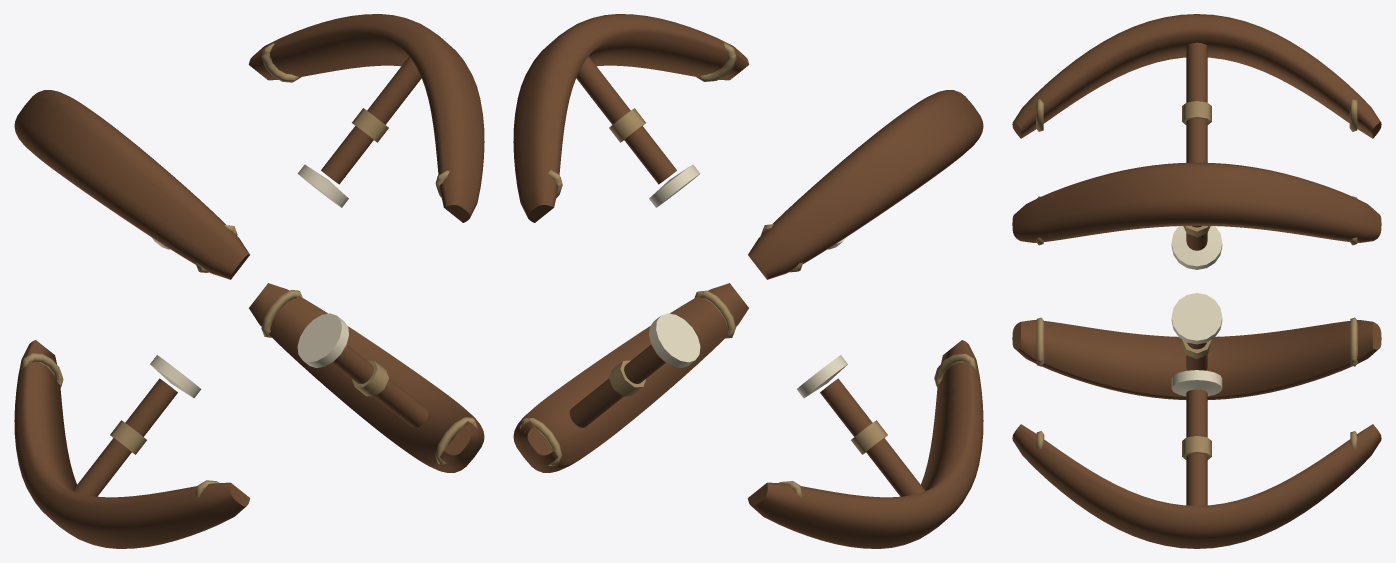
The model's file is k5_dampers.obj.
The picture shows the model from 3 angles, left to right: view 1: azimuth 30°, elevation 25°; view 2: azimuth 150°, elevation 25°; view 3: azimuth 270°, elevation 25°; orthographic projection. The views are drawn at different scales.
Visible parts, largest first — view 1: k5_dampers; view 2: k5_dampers; view 3: k5_dampers.
Part boxes in pixels (box(x1,y1,x2,y2)): k5_dampers: box(14, 14, 484, 548); k5_dampers: box(513, 14, 983, 548); k5_dampers: box(1012, 14, 1381, 548).
Size of the model in its own units: 2.51 by 2.51 by 2.19.
